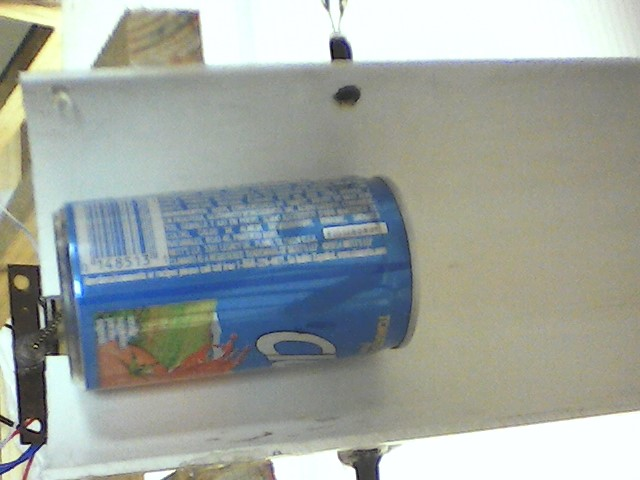lata: (51, 172, 429, 396)
